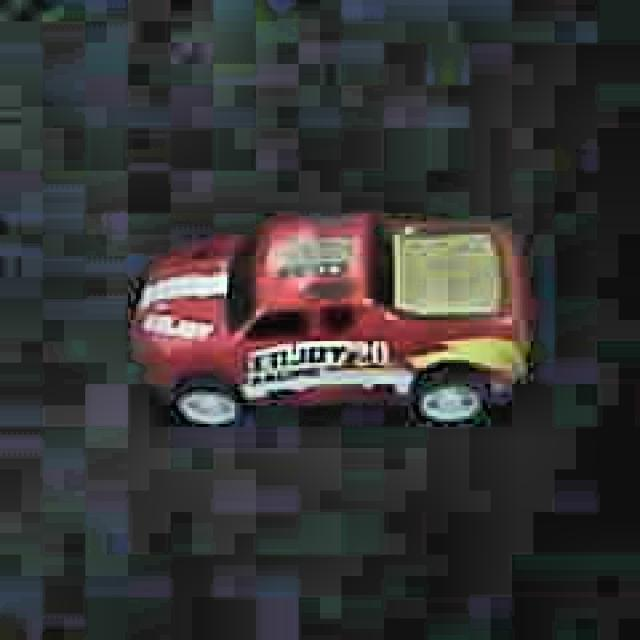car: (123, 205, 533, 430)
